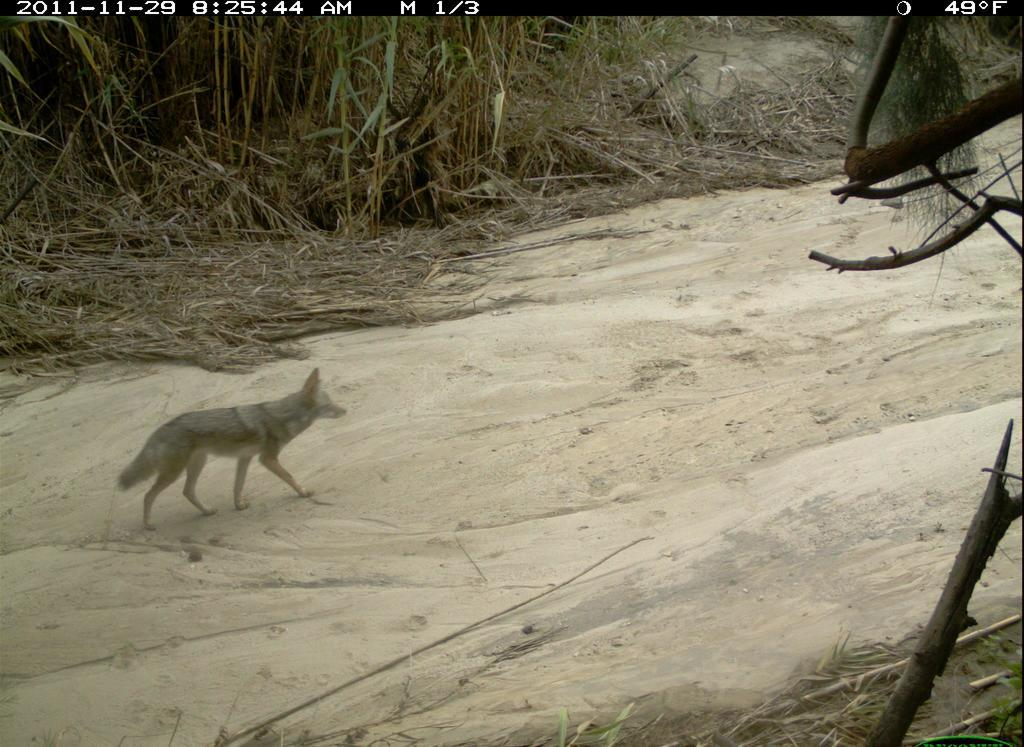coyote: (113, 364, 353, 537)
